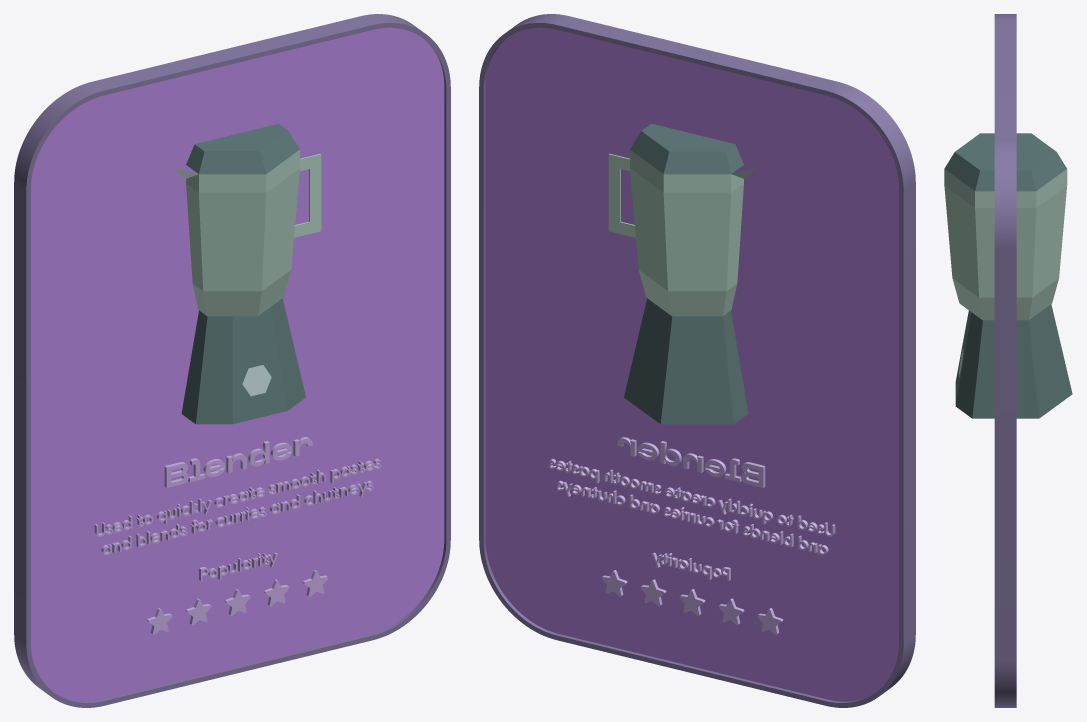
Rendered from blender.gltf.
3 renders of one model, left to right at view 1: azimuth 30°, elevation 25°; view 2: azimuth 150°, elevation 25°; view 3: azimuth 270°, elevation 25°, orthographic. The views are drawn at different scales.
Visible parts, largest first — view 1: Mesh_614.002, kitchenBlender, Mesh_2376.002, Mesh_1104.002, Mesh_2571.002, Mesh_2641.001; view 2: Mesh_614.002, kitchenBlender, Mesh_2376.002, Mesh_1104.002, Mesh_2571.002, Mesh_2641.001; view 3: kitchenBlender, Mesh_2376.002.
Part boxes in pixels (bbox=[...]): Mesh_614.002: bbox=[31, 27, 444, 701]; kitchenBlender: bbox=[173, 123, 321, 424]; Mesh_2376.002: bbox=[14, 14, 450, 707]; Mesh_1104.002: bbox=[94, 458, 381, 580]; Mesh_2571.002: bbox=[164, 437, 312, 487]; Mesh_2641.001: bbox=[146, 570, 328, 634]; Mesh_614.002: bbox=[485, 27, 898, 701]; kitchenBlender: bbox=[608, 123, 756, 424]; Mesh_2376.002: bbox=[479, 14, 915, 707]; Mesh_1104.002: bbox=[548, 458, 835, 580]; Mesh_2571.002: bbox=[617, 437, 765, 487]; Mesh_2641.001: bbox=[601, 570, 783, 634]; kitchenBlender: bbox=[944, 133, 1072, 418]; Mesh_2376.002: bbox=[994, 14, 1016, 707].
Bounding box in the file's own units: 0.3625 × 0.5019 × 0.1043.
37 materials, 32 textured.
